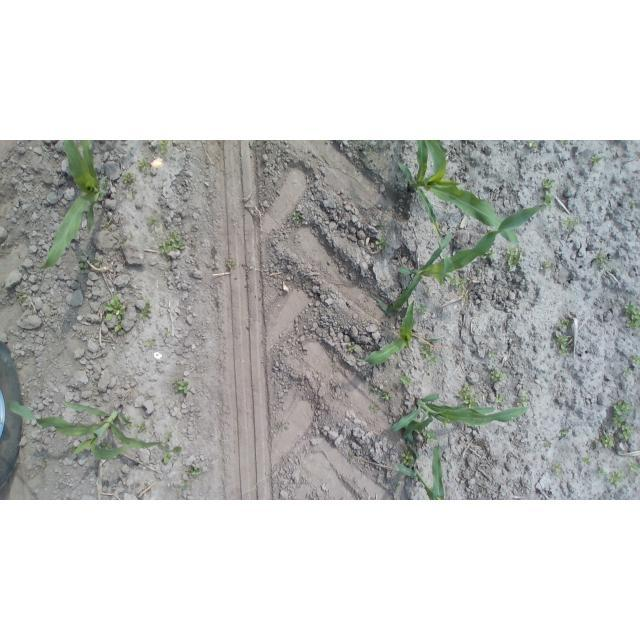Maize: (373, 207, 558, 314), (397, 140, 521, 273), (7, 398, 173, 460), (34, 141, 111, 270), (391, 393, 533, 440), (354, 300, 414, 365), (394, 427, 446, 500)
Weeds: (610, 398, 635, 440), (158, 229, 187, 256), (103, 295, 125, 322), (158, 443, 182, 466), (455, 381, 477, 406), (540, 177, 556, 208), (77, 256, 103, 275), (624, 302, 640, 329), (553, 332, 570, 357), (420, 345, 437, 366), (139, 298, 153, 320), (450, 273, 467, 291), (594, 249, 610, 267), (607, 468, 623, 486), (172, 379, 190, 395), (185, 464, 203, 478), (562, 217, 581, 230), (506, 244, 516, 268), (423, 428, 438, 444), (600, 433, 614, 449), (551, 462, 565, 478), (400, 449, 414, 465), (119, 233, 133, 248), (347, 340, 360, 354), (627, 459, 639, 474), (490, 371, 506, 382), (540, 260, 557, 270), (375, 236, 387, 250), (379, 389, 393, 401), (292, 211, 303, 226), (590, 154, 602, 167), (517, 396, 530, 408), (136, 158, 148, 171), (122, 172, 135, 184), (367, 404, 381, 415), (159, 140, 170, 154), (274, 422, 291, 431), (146, 215, 158, 227), (557, 319, 570, 330), (400, 376, 412, 387), (137, 420, 148, 432), (16, 292, 26, 305), (125, 415, 134, 429), (482, 249, 494, 259), (161, 326, 171, 338), (631, 353, 640, 366), (556, 430, 569, 439), (417, 303, 427, 314), (145, 337, 156, 347), (629, 200, 640, 209), (526, 140, 538, 148), (332, 363, 341, 373), (496, 393, 505, 403), (181, 481, 189, 492), (487, 349, 497, 357), (100, 442, 110, 450), (370, 383, 379, 391), (348, 452, 356, 461), (164, 431, 172, 440), (225, 262, 235, 269), (599, 466, 606, 476), (460, 294, 468, 302), (422, 287, 429, 296), (622, 369, 631, 376), (328, 286, 335, 295), (115, 324, 122, 332), (103, 220, 109, 229), (379, 221, 386, 228), (544, 441, 551, 448), (584, 457, 591, 464), (130, 191, 137, 198), (560, 140, 568, 146), (517, 268, 523, 275), (42, 460, 47, 468), (426, 369, 431, 376), (396, 483, 401, 490), (481, 488, 487, 493), (363, 447, 369, 452), (138, 296, 143, 301), (506, 272, 510, 277), (123, 330, 126, 335)
